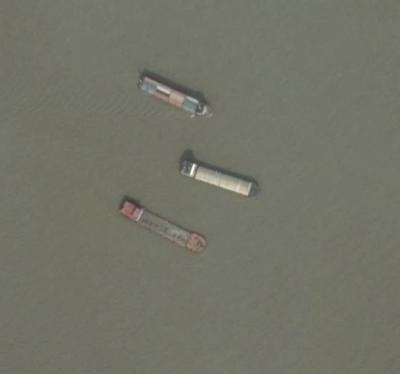Boat: (109, 187, 233, 276), (123, 52, 248, 136), (171, 153, 269, 207), (104, 188, 124, 196)
